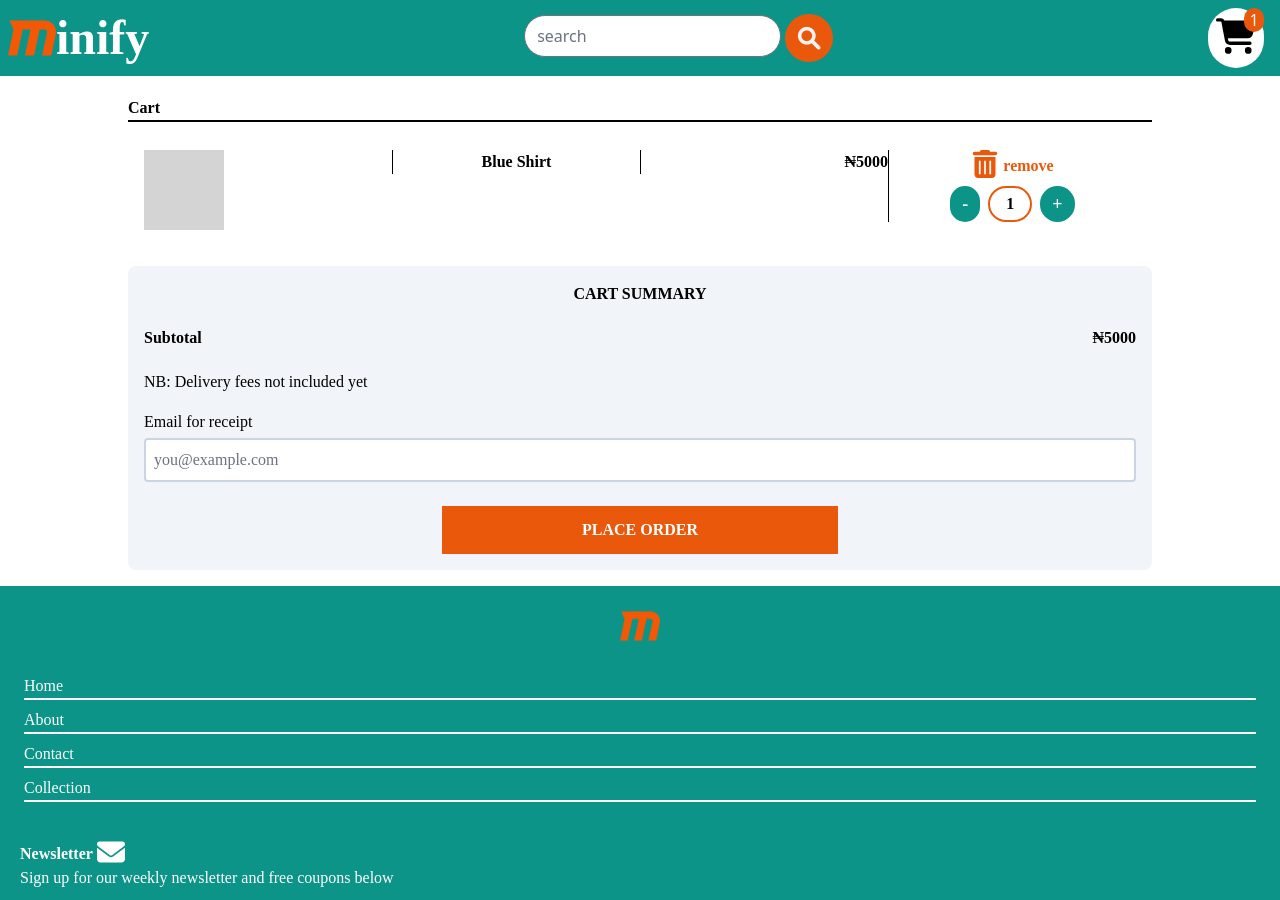
Scenario: Cart › verifies payment, clears the cart and shows the order ID on success
The image size is (1280, 900).
Expected: the text "Blue Shirt" is shown, [482,153,551,170]
Type "test@example.com" into the field labelled "Email for receipt" at (640, 460), box [144,438,1136,482]
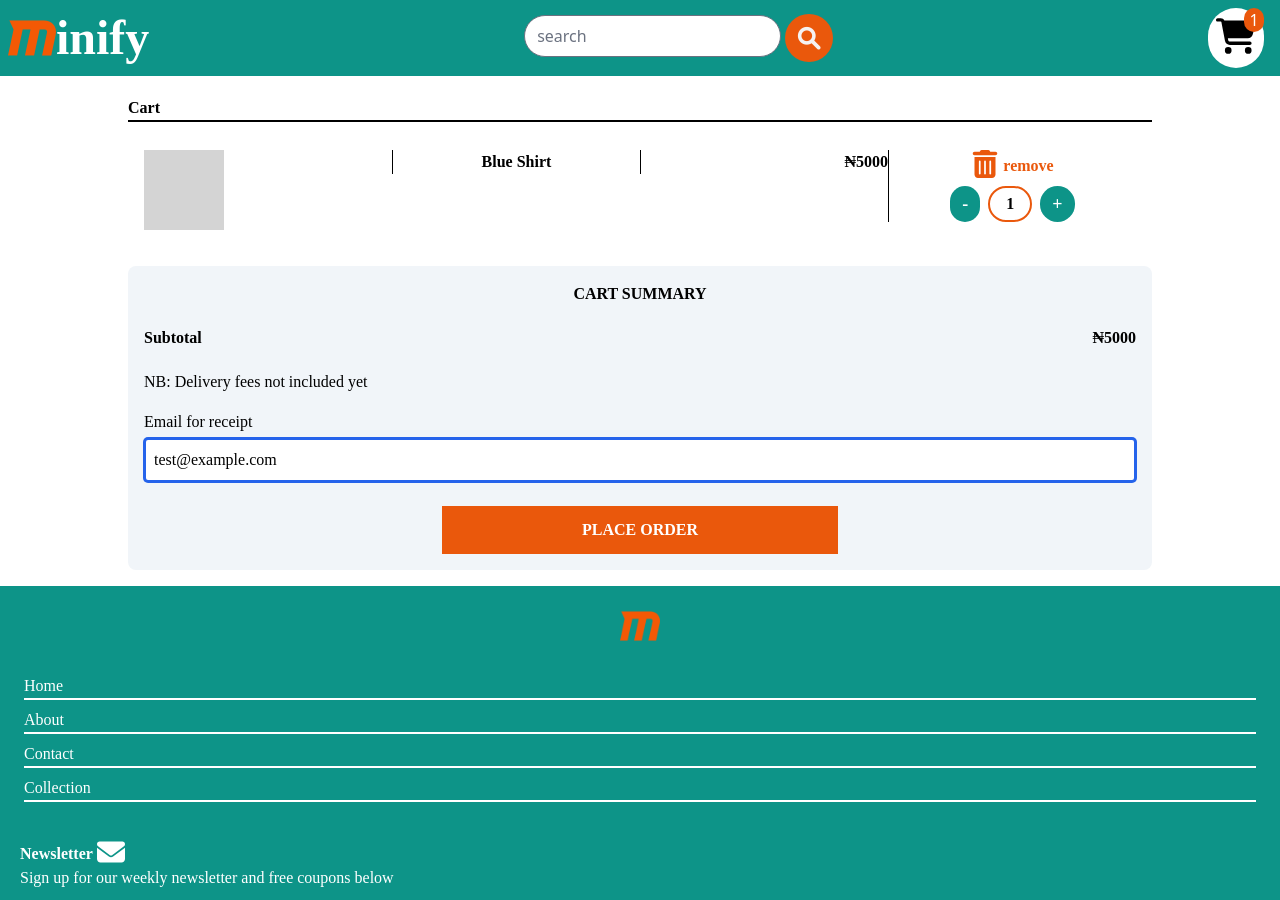
Click the button "PLACE ORDER" at (640, 530), box [442,506,838,554]
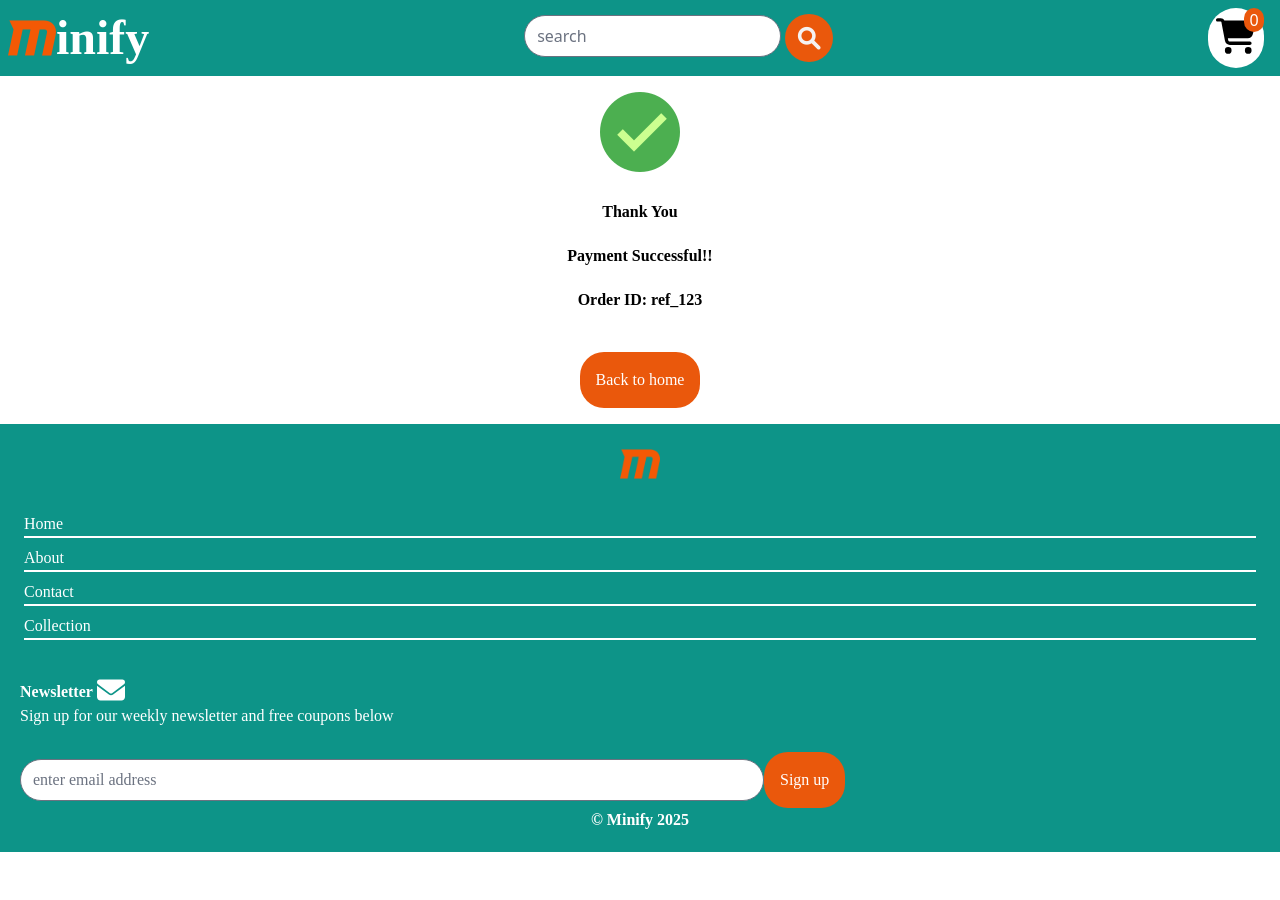
Expected: the heading "Order ID: ref_123" is shown, [578,291,702,308]
